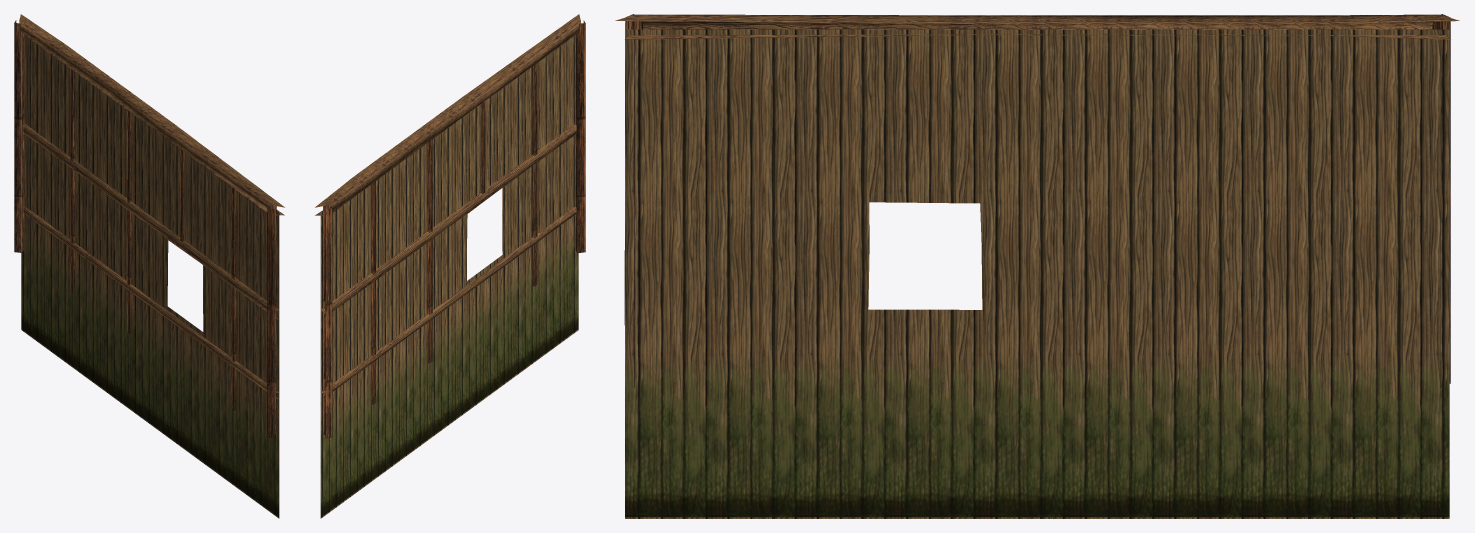
File: LAKETOWN_WAREHOUSE2_PS_WH2_PLATWALL73736__GX.fbx
3 views of the same model, side by side, from view 1: azimuth 30°, elevation 25°; view 2: azimuth 150°, elevation 25°; view 3: azimuth 270°, elevation 25° (orthographic). The views are drawn at different scales.
Parts seen in each view (by area): view 1: LAKETOWN_WAREHOUSE2_PS_WH2_PLATWALL73736__GX; view 2: LAKETOWN_WAREHOUSE2_PS_WH2_PLATWALL73736__GX; view 3: LAKETOWN_WAREHOUSE2_PS_WH2_PLATWALL73736__GX.
Boxes of the visible parts, x1,y1,x2,y2 form: LAKETOWN_WAREHOUSE2_PS_WH2_PLATWALL73736__GX: [14, 14, 284, 518]; LAKETOWN_WAREHOUSE2_PS_WH2_PLATWALL73736__GX: [315, 14, 585, 518]; LAKETOWN_WAREHOUSE2_PS_WH2_PLATWALL73736__GX: [615, 14, 1459, 518].
Size of the model in its own units: 7850 by 153127 by 234856.
Materials: 5 (5 with a texture image).
